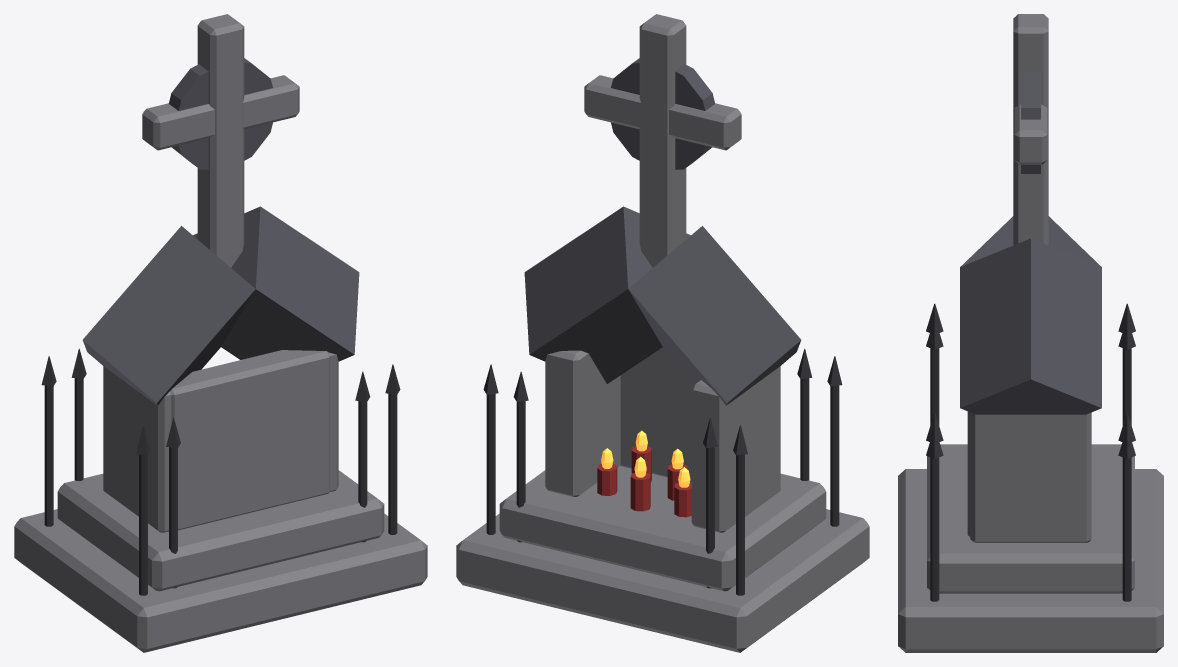
File: route77_roadside_shrine.glb
3 renders of one model, left to right at view 1: azimuth 30°, elevation 25°; view 2: azimuth 150°, elevation 25°; view 3: azimuth 270°, elevation 25°, orthographic. The views are drawn at different scales.
Parts seen in each view (by area): view 1: Altar base step 1, Shrine back wall, Altar base step 2, Gable roof slope L, Gable roof slope R, Gothic cross vertical shaft, Shrine stone pillar L, Gothic cross horizontal arm, Celtic nimbus ring, Iron fence picket.001, Iron fence picket.006, Iron fence picket (+4 smaller); view 2: Altar base step 1, Altar base step 2, Gable roof slope L, Gable roof slope R, Shrine stone pillar L, Gothic cross vertical shaft, Shrine stone pillar R, Shrine back wall, Gothic cross horizontal arm, Celtic nimbus ring, Iron fence picket, Iron fence picket.007 (+6 smaller); view 3: Gable roof slope R, Altar base step 1, Altar base step 2, Shrine stone pillar R, Gothic cross vertical shaft, Gothic cross horizontal arm, Gable roof slope L, Iron fence picket.006, Iron fence picket.007, Celtic nimbus ring, Iron fence picket.002, Iron fence picket.003 (+1 smaller).
Part boxes in pixels (x1=…): Altar base step 1: x1=14, y1=509, x2=427, y2=652; Shrine back wall: x1=170, y1=350, x2=330, y2=530; Altar base step 2: x1=57, y1=470, x2=384, y2=591; Gable roof slope L: x1=82, y1=226, x2=255, y2=405; Gable roof slope R: x1=193, y1=206, x2=359, y2=361; Gothic cross vertical shaft: x1=197, y1=14, x2=244, y2=267; Shrine stone pillar L: x1=103, y1=366, x2=175, y2=532; Gothic cross horizontal arm: x1=142, y1=75, x2=299, y2=150; Celtic nimbus ring: x1=168, y1=58, x2=272, y2=169; Iron fence picket.001: x1=44, y1=385, x2=53, y2=526; Iron fence picket.006: x1=388, y1=393, x2=397, y2=534; Iron fence picket: x1=139, y1=454, x2=147, y2=595; Altar base step 1: x1=456, y1=509, x2=869, y2=652; Altar base step 2: x1=499, y1=466, x2=826, y2=591; Gable roof slope L: x1=628, y1=226, x2=801, y2=405; Gable roof slope R: x1=524, y1=206, x2=690, y2=383; Shrine stone pillar L: x1=691, y1=366, x2=780, y2=532; Gothic cross vertical shaft: x1=639, y1=14, x2=686, y2=267; Shrine stone pillar R: x1=545, y1=350, x2=620, y2=496; Shrine back wall: x1=620, y1=347, x2=694, y2=482; Gothic cross horizontal arm: x1=584, y1=75, x2=741, y2=150; Celtic nimbus ring: x1=611, y1=58, x2=715, y2=169; Iron fence picket: x1=830, y1=385, x2=839, y2=526; Iron fence picket.007: x1=486, y1=393, x2=495, y2=534; Gable roof slope R: x1=960, y1=238, x2=1101, y2=414; Altar base step 1: x1=898, y1=469, x2=1163, y2=652; Altar base step 2: x1=927, y1=444, x2=1134, y2=593; Shrine stone pillar R: x1=970, y1=412, x2=1091, y2=542; Gothic cross vertical shaft: x1=1013, y1=14, x2=1048, y2=245; Gothic cross horizontal arm: x1=1014, y1=104, x2=1047, y2=164; Gable roof slope L: x1=960, y1=216, x2=1101, y2=266; Iron fence picket.006: x1=930, y1=457, x2=939, y2=601; Iron fence picket.007: x1=1122, y1=457, x2=1131, y2=601; Celtic nimbus ring: x1=1021, y1=71, x2=1040, y2=173; Iron fence picket.002: x1=930, y1=348, x2=939, y2=425; Iron fence picket.003: x1=1122, y1=348, x2=1131, y2=425.
Size of the model in its own units: 1.35 by 2.45 by 1.05.
